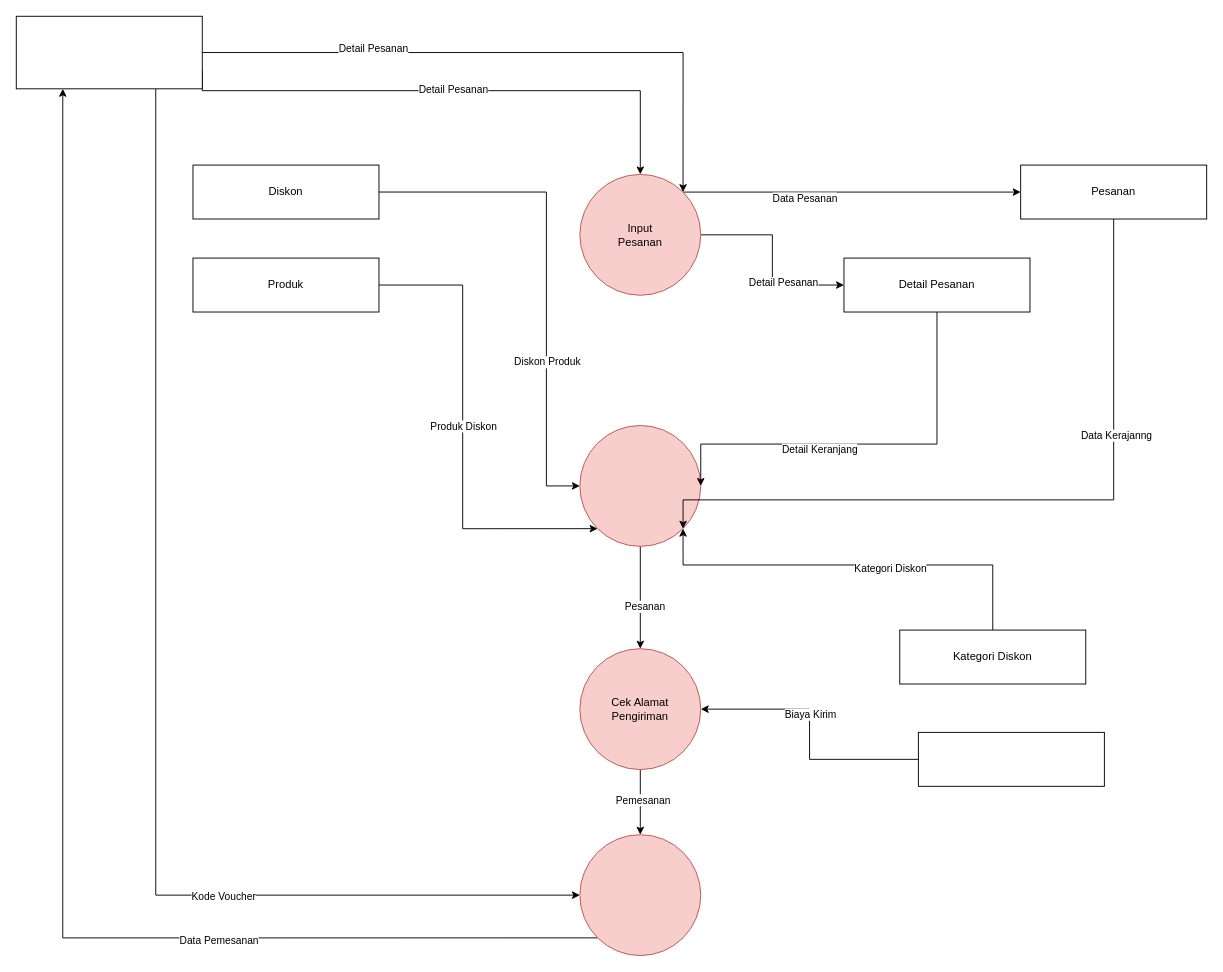
Some shapes in this 1223 by 972 pixel diagram are drawn without their labels. The shapes that lost their labels are listed below. From the top down, each one's centre as x and y in pixels, then its label:
At point 108,52: "Customer".
At point 640,485: "Lihat Keranjang".
At point 1010,758: "Kota".
At point 640,895: "Summary".
